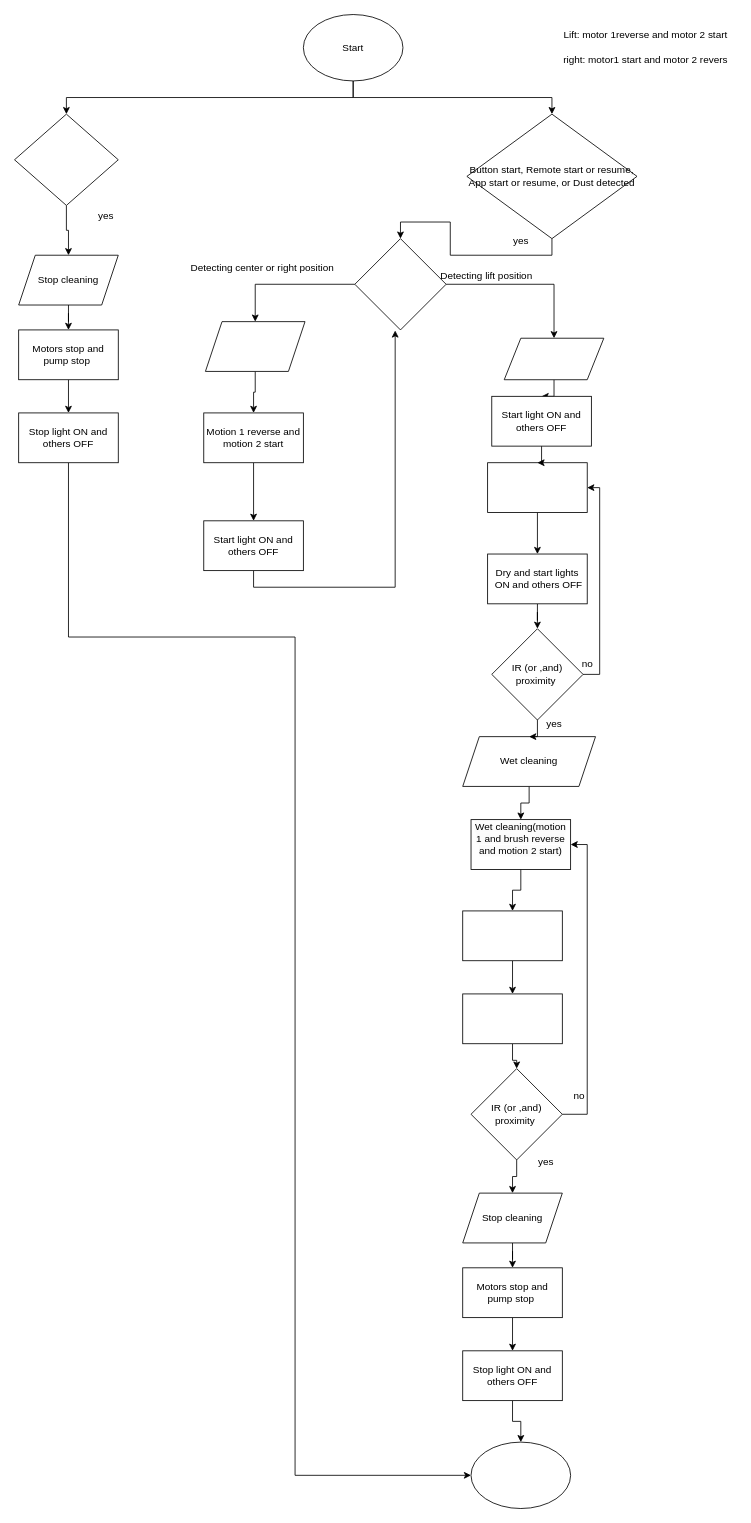
The diagram is 751 pixels wide and 1523 high, and some of its shapes have lost their labels. Each missing label, with the centre of its shape:
Button stop, Remote stop, or App stop: pixel 66 159
Cleaning start: pixel 553 358
Dry cleaning(Brush and motion 1 start and motion 2 reverse): pixel 537 487
End: pixel 520 1475
IR (or and) proximity: pixel 400 284
Pump ON: pixel 512 1018
Repositioning: pixel 255 346
Wet and start lights ON, and others OFF: pixel 512 935
